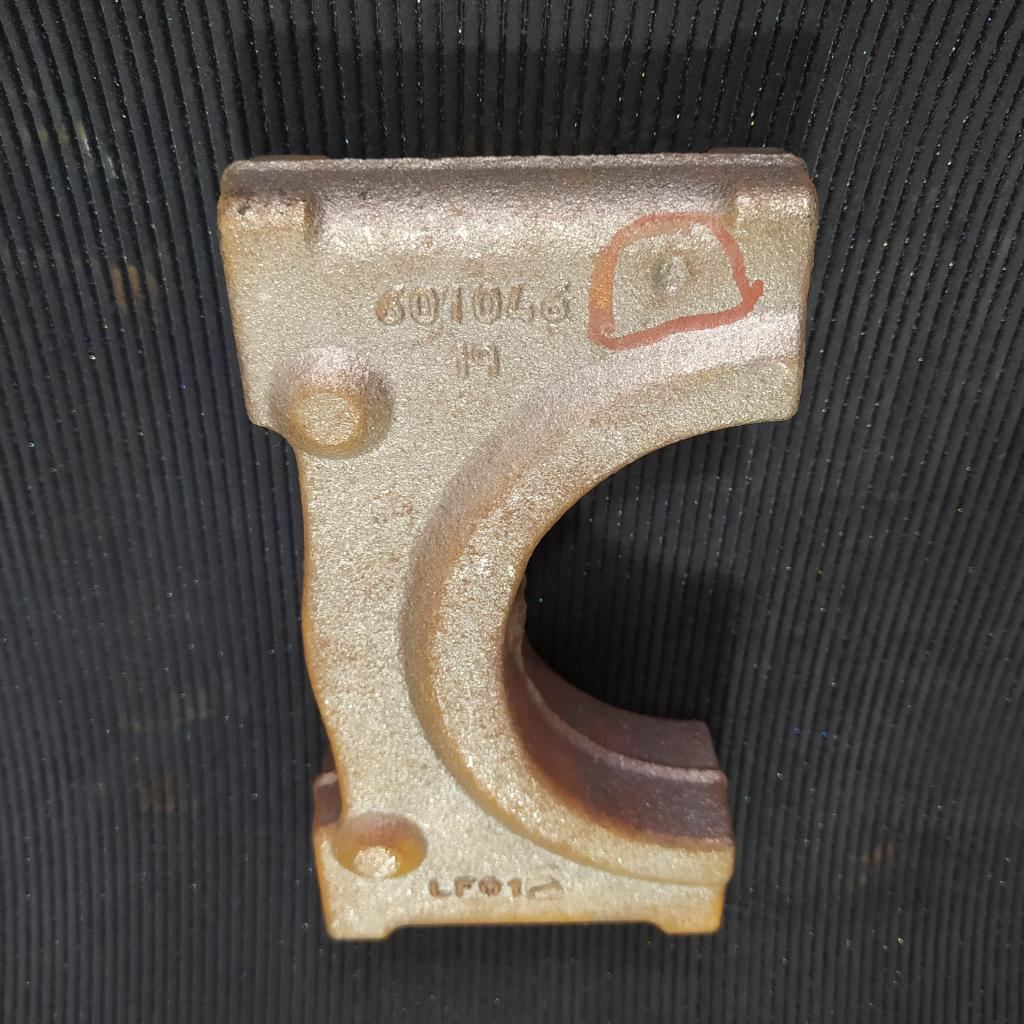buraco: (651, 247, 697, 302)
